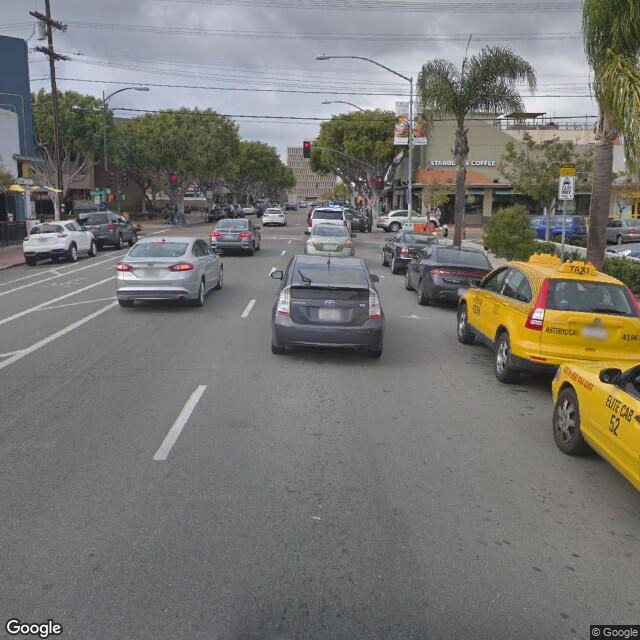road line: (131, 355, 222, 473)
